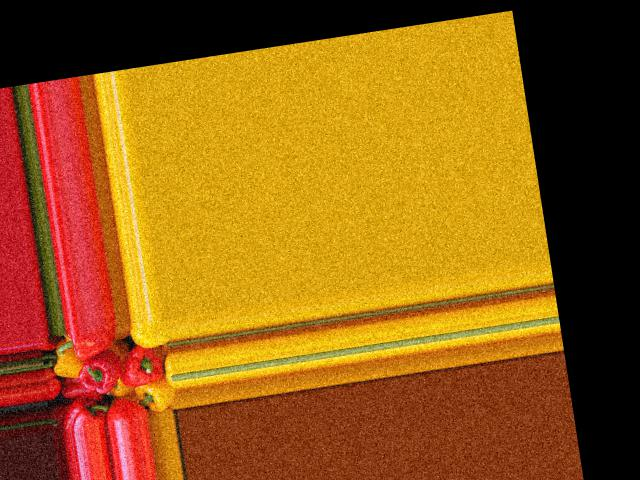bell_pepper: (137, 375, 177, 411)
